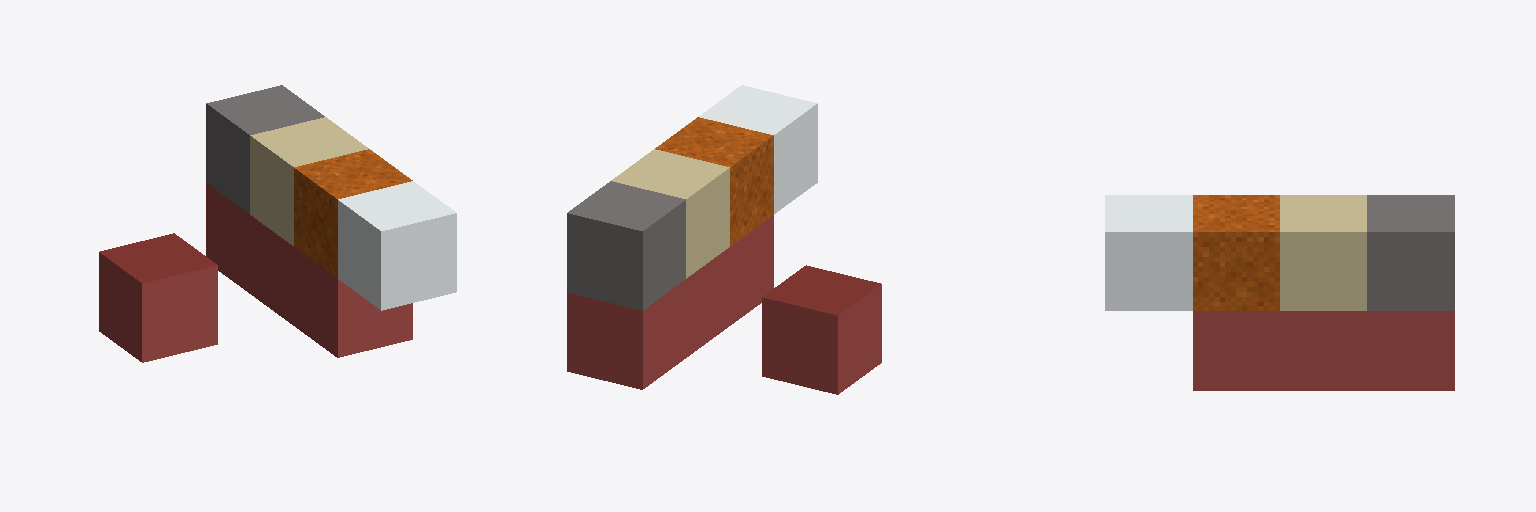
3 renders of one model, left to right at view 1: azimuth 30°, elevation 25°; view 2: azimuth 150°, elevation 25°; view 3: azimuth 270°, elevation 25°, orthographic.
Size of the model in its own units: 3 by 2 by 4.
7 materials, 1 textured.